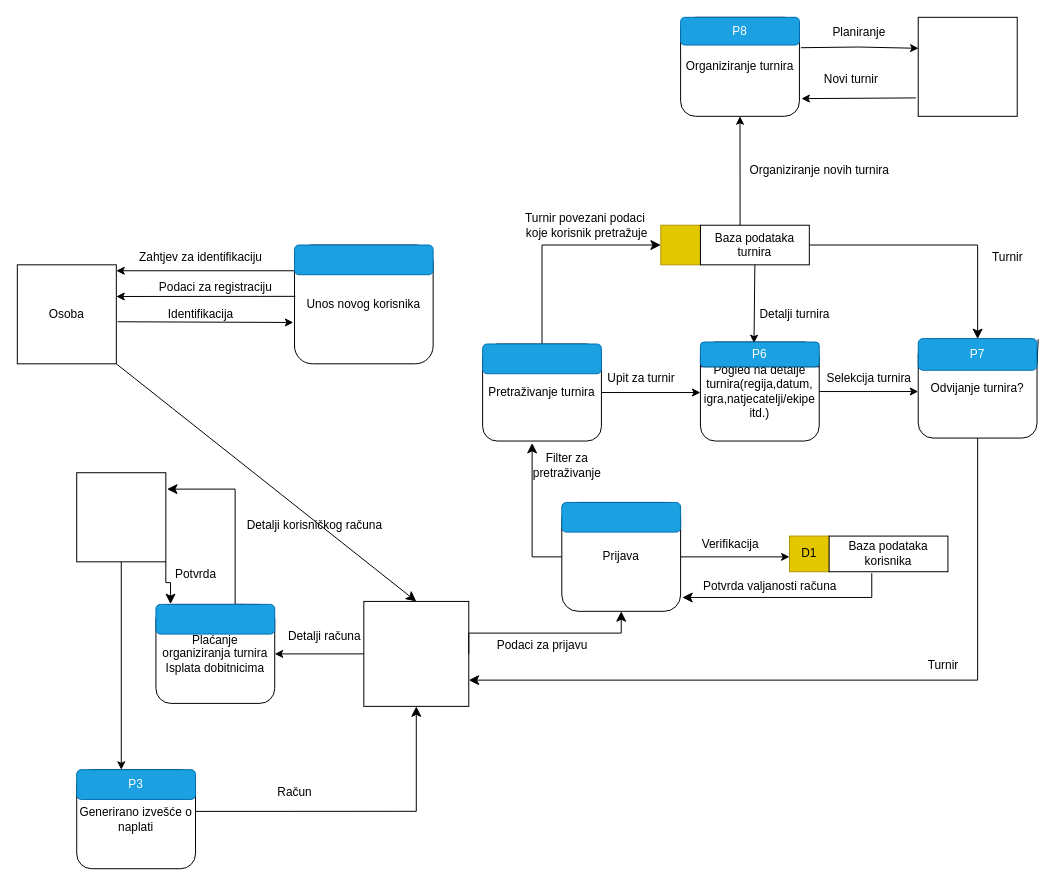
Image size: 1057x886. Some labels were removed from this diagram. The box of each missing label's shape, as (x1, y1, x2, y2) in pixels:
Banka: (76, 472, 166, 562)
D2: (660, 224, 700, 265)
Korisnik: (363, 600, 469, 706)
Organizator: (917, 16, 1017, 116)
P1: (294, 244, 433, 275)
P2: (155, 603, 275, 634)
P4: (561, 501, 681, 532)
P5: (482, 343, 601, 374)
